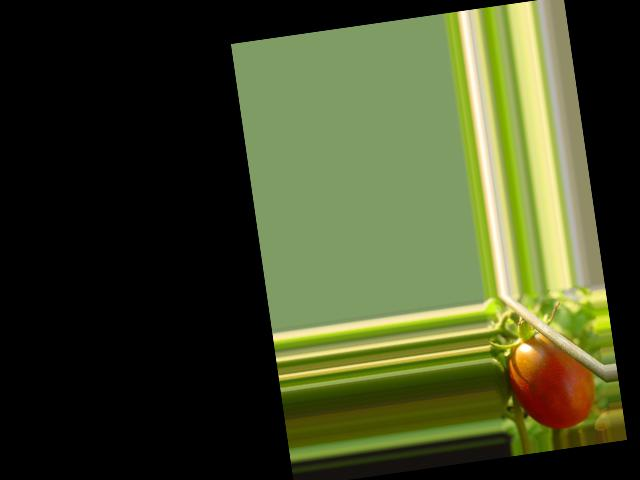tomato: (505, 326, 598, 434)
